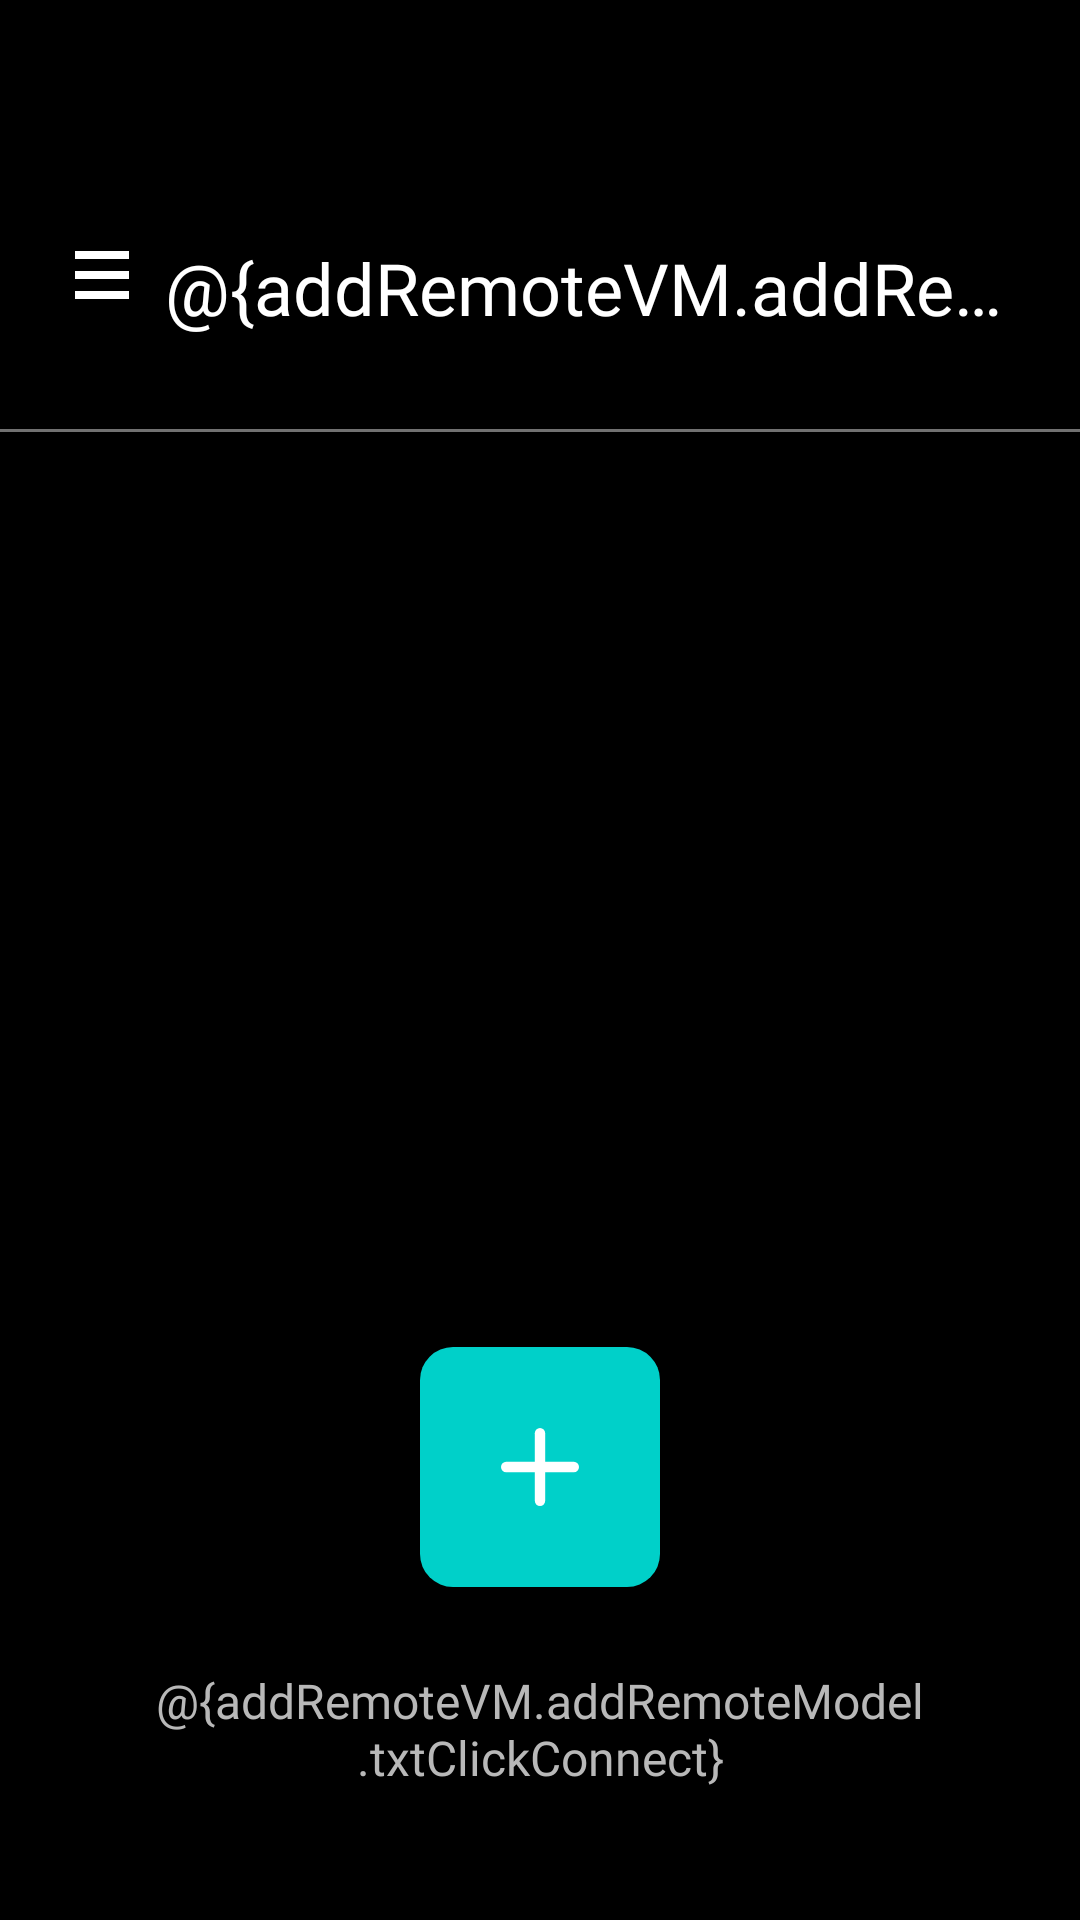

Point at icon controls on the screen. Image size 1080 × 1920, points as point (x, y).
menu: point (102, 275)
plus: point (540, 1467)
